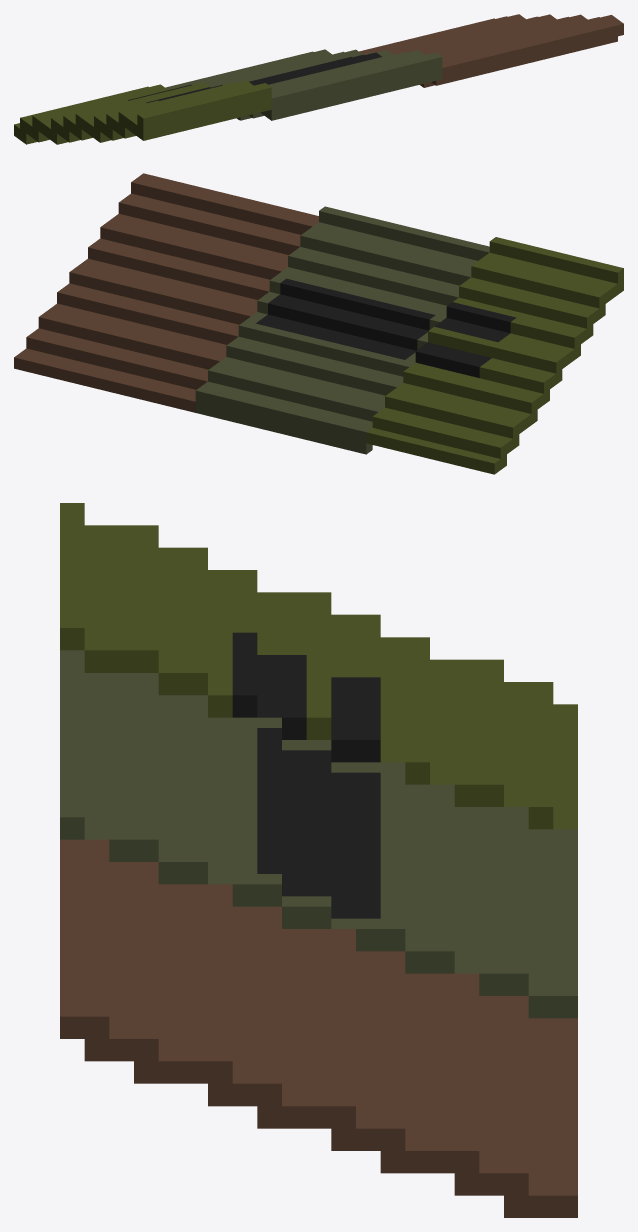
File: abandoned_army_truck_bonnet_flap.glb
The picture shows the model from 3 angles, top to bottom: view 1: azimuth 30°, elevation 25°; view 2: azimuth 150°, elevation 25°; view 3: azimuth 270°, elevation 25°; orthographic projection. The views are drawn at different scales.
Parts seen in each view (by area): view 1: body:compound; view 2: body:compound; view 3: body:compound.
Part boxes in pixels (box(x1,y1,x2,y2)): body:compound: box(14, 14, 623, 144); body:compound: box(14, 173, 623, 474); body:compound: box(60, 503, 577, 1217).
Size of the model in its own units: 1.41 by 0.3438 by 0.6562.
